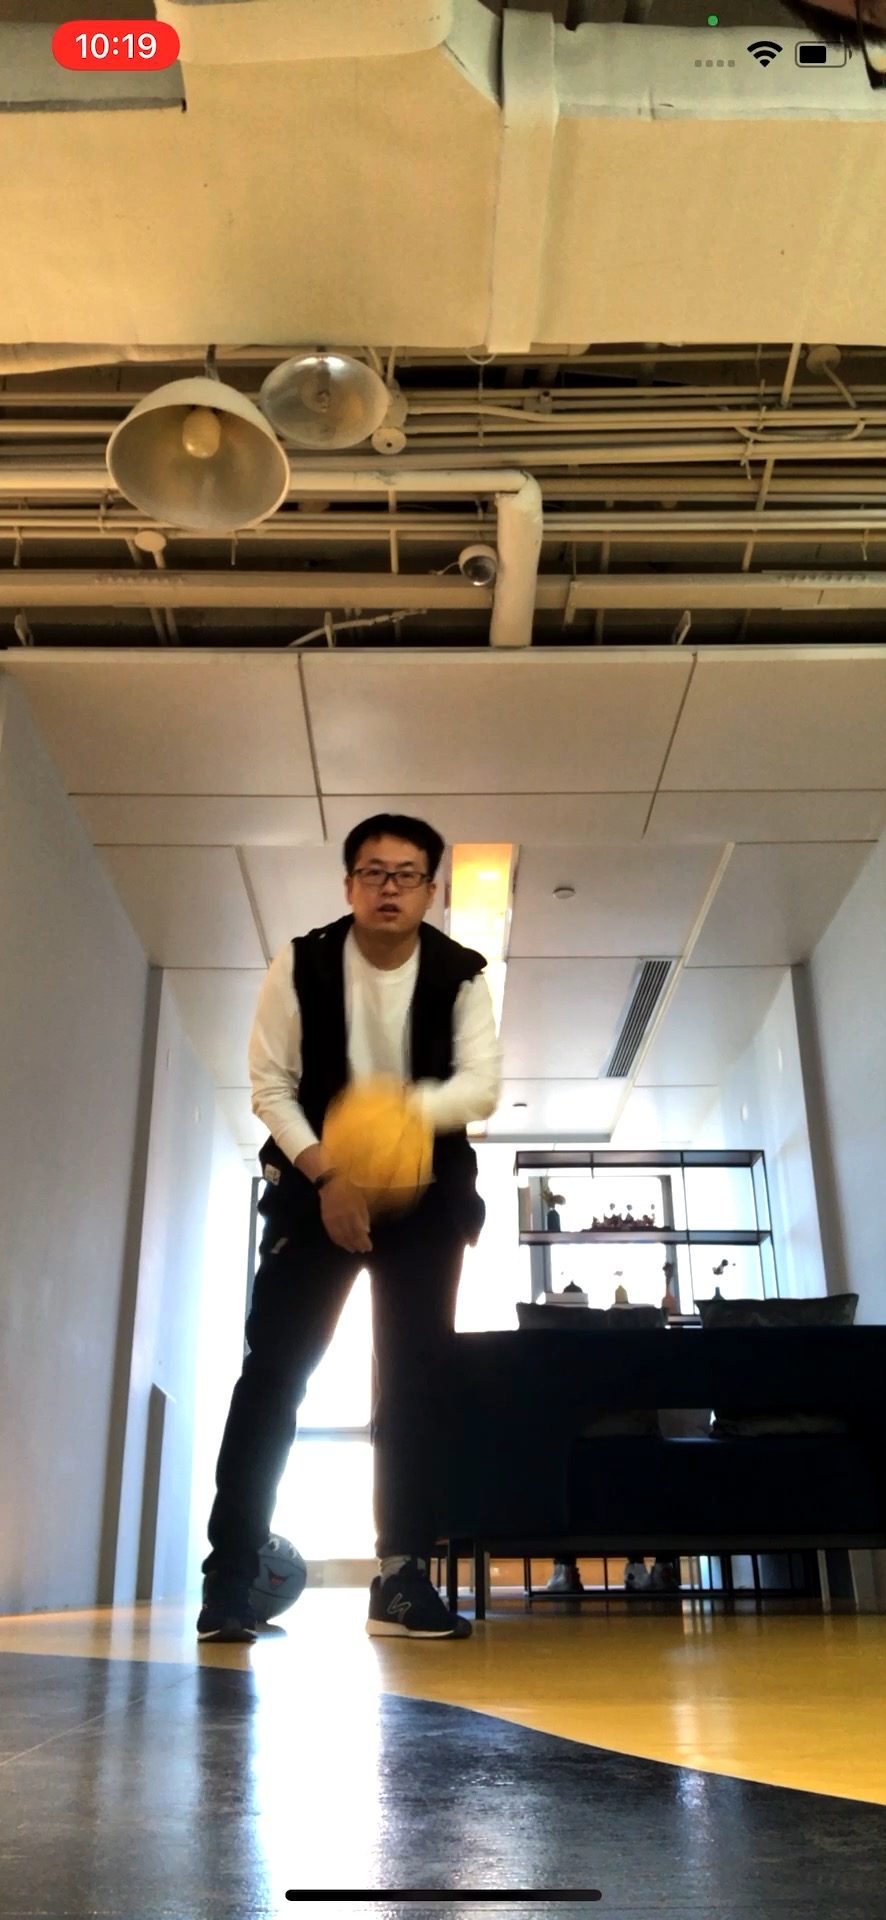ball: (326, 1074, 439, 1206)
